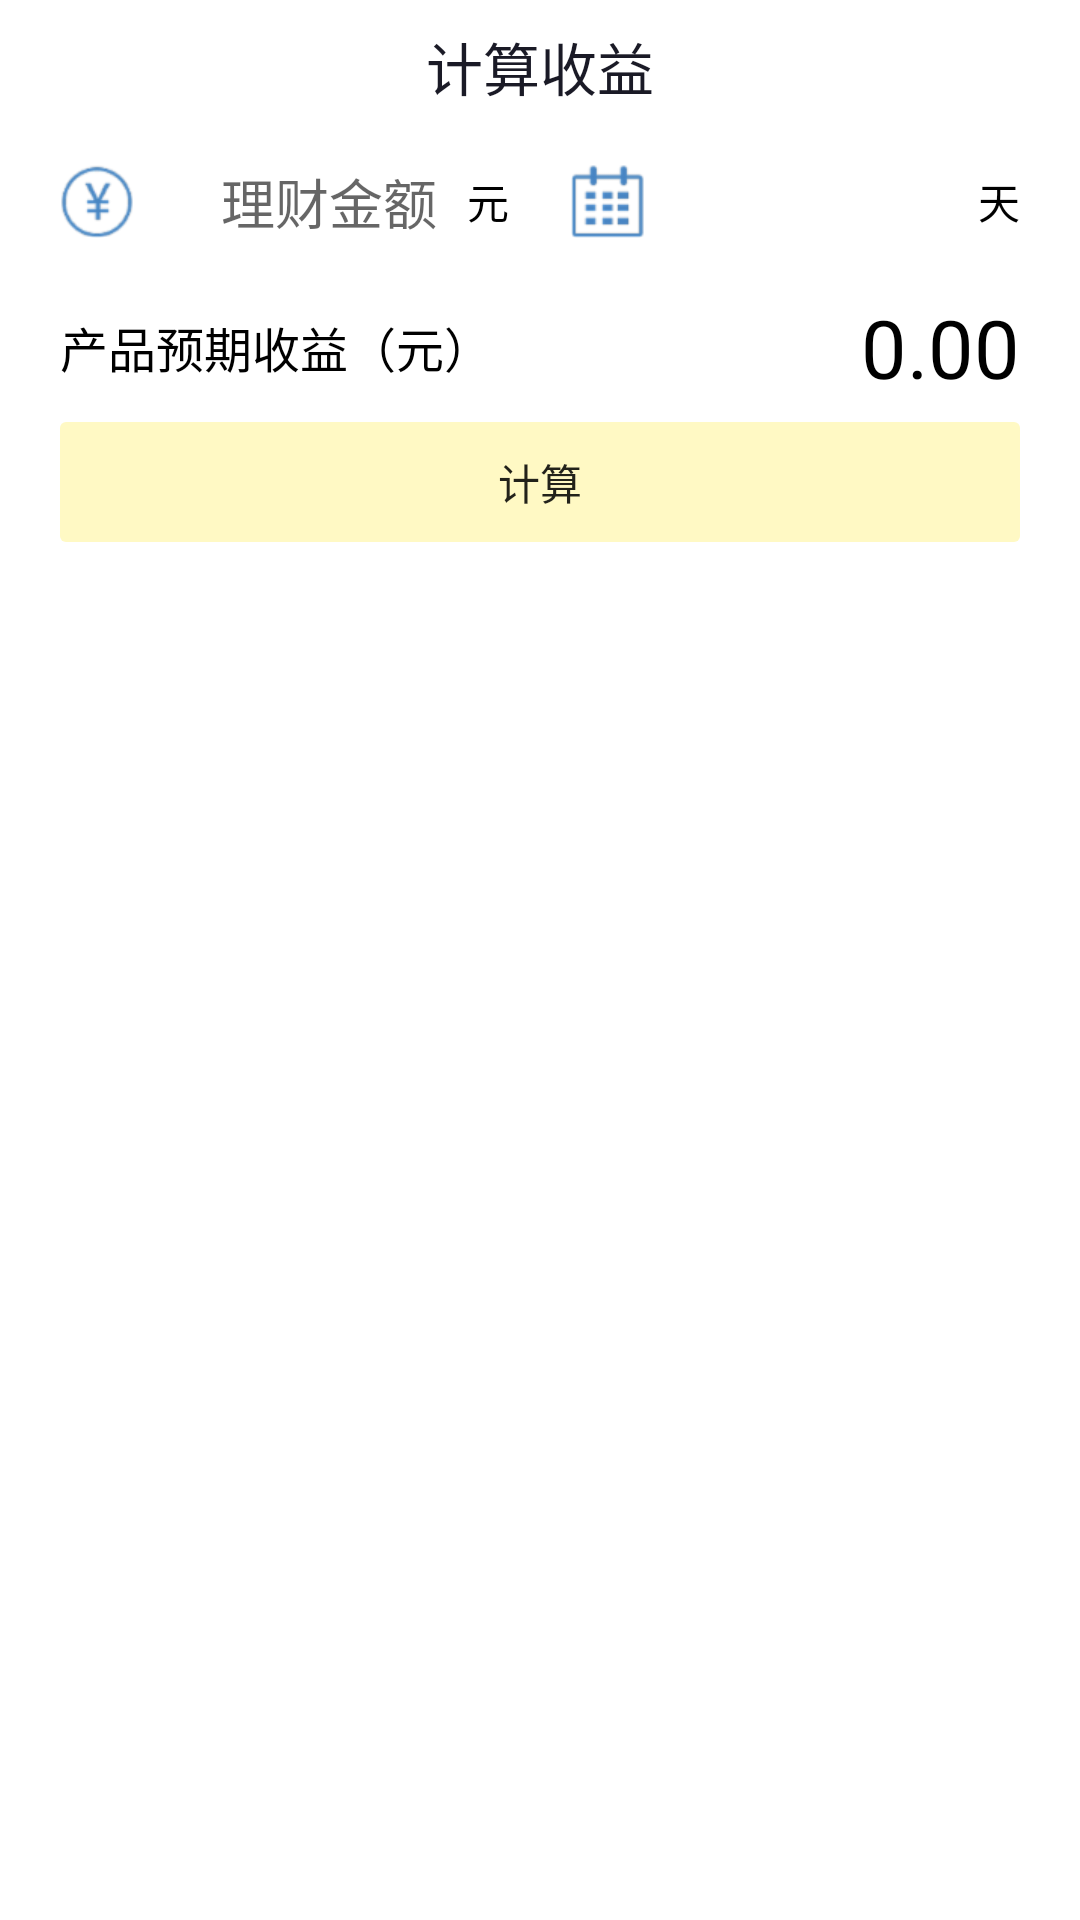

Named icons in this screenshot (1080x1920) and their bounding boxes, Rect(x1, y1, x2, y2):
calendar: Rect(572, 165, 644, 237)
rmb sign: Rect(61, 166, 133, 237)
